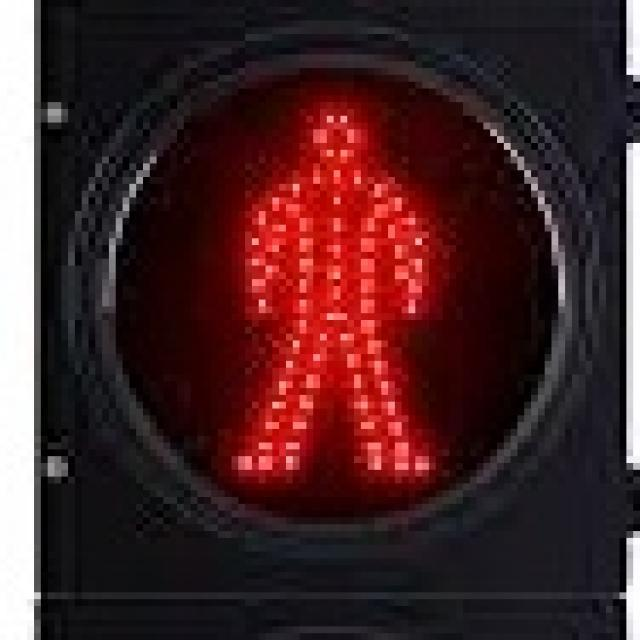red-crossing: (198, 61, 457, 504)
